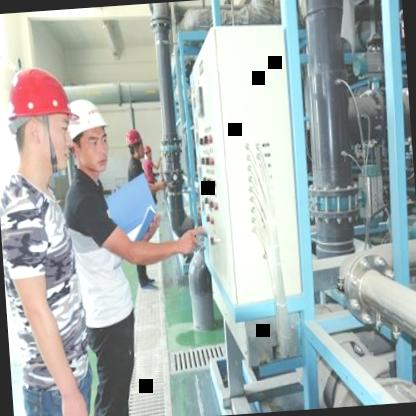helmet: (5, 64, 78, 180), (59, 93, 114, 179), (124, 125, 146, 161), (144, 143, 154, 162)
